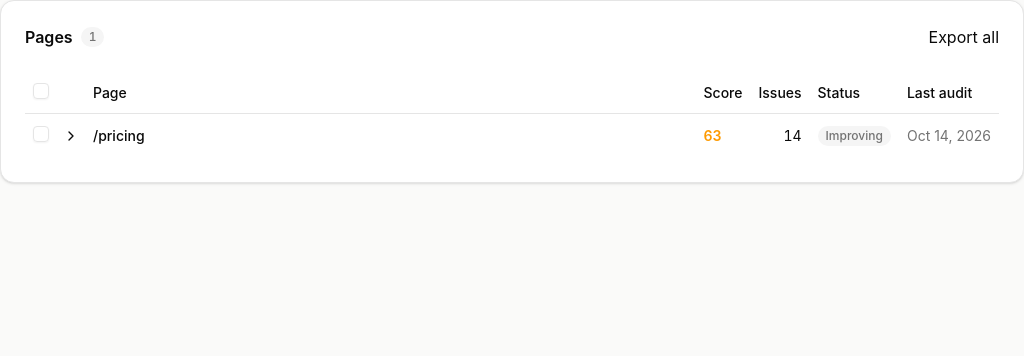
Test case: AuditPagesTable › says how many older audits the history leaves out
Click the button named "Show earlier audits of /pricing" at [71, 136], box [57,122,85,150]
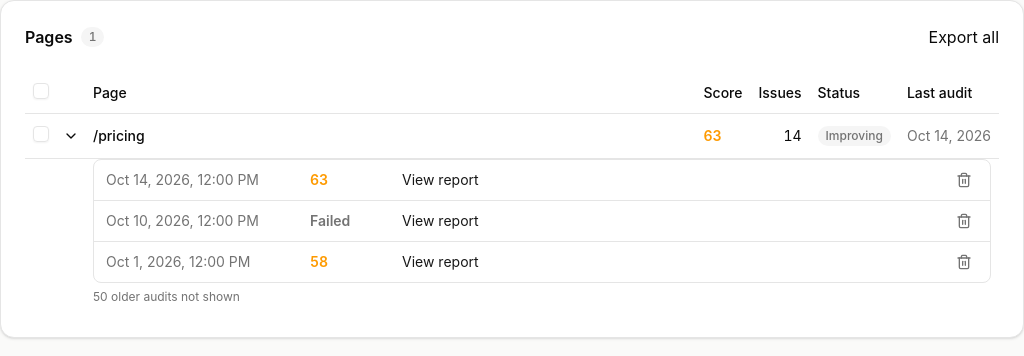
Now the text "50 older audits not shown" is shown, box [93,288,240,304]
